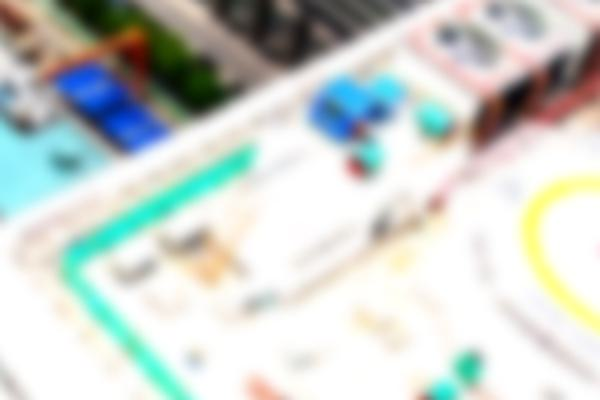Apron: (520, 161, 600, 343)
